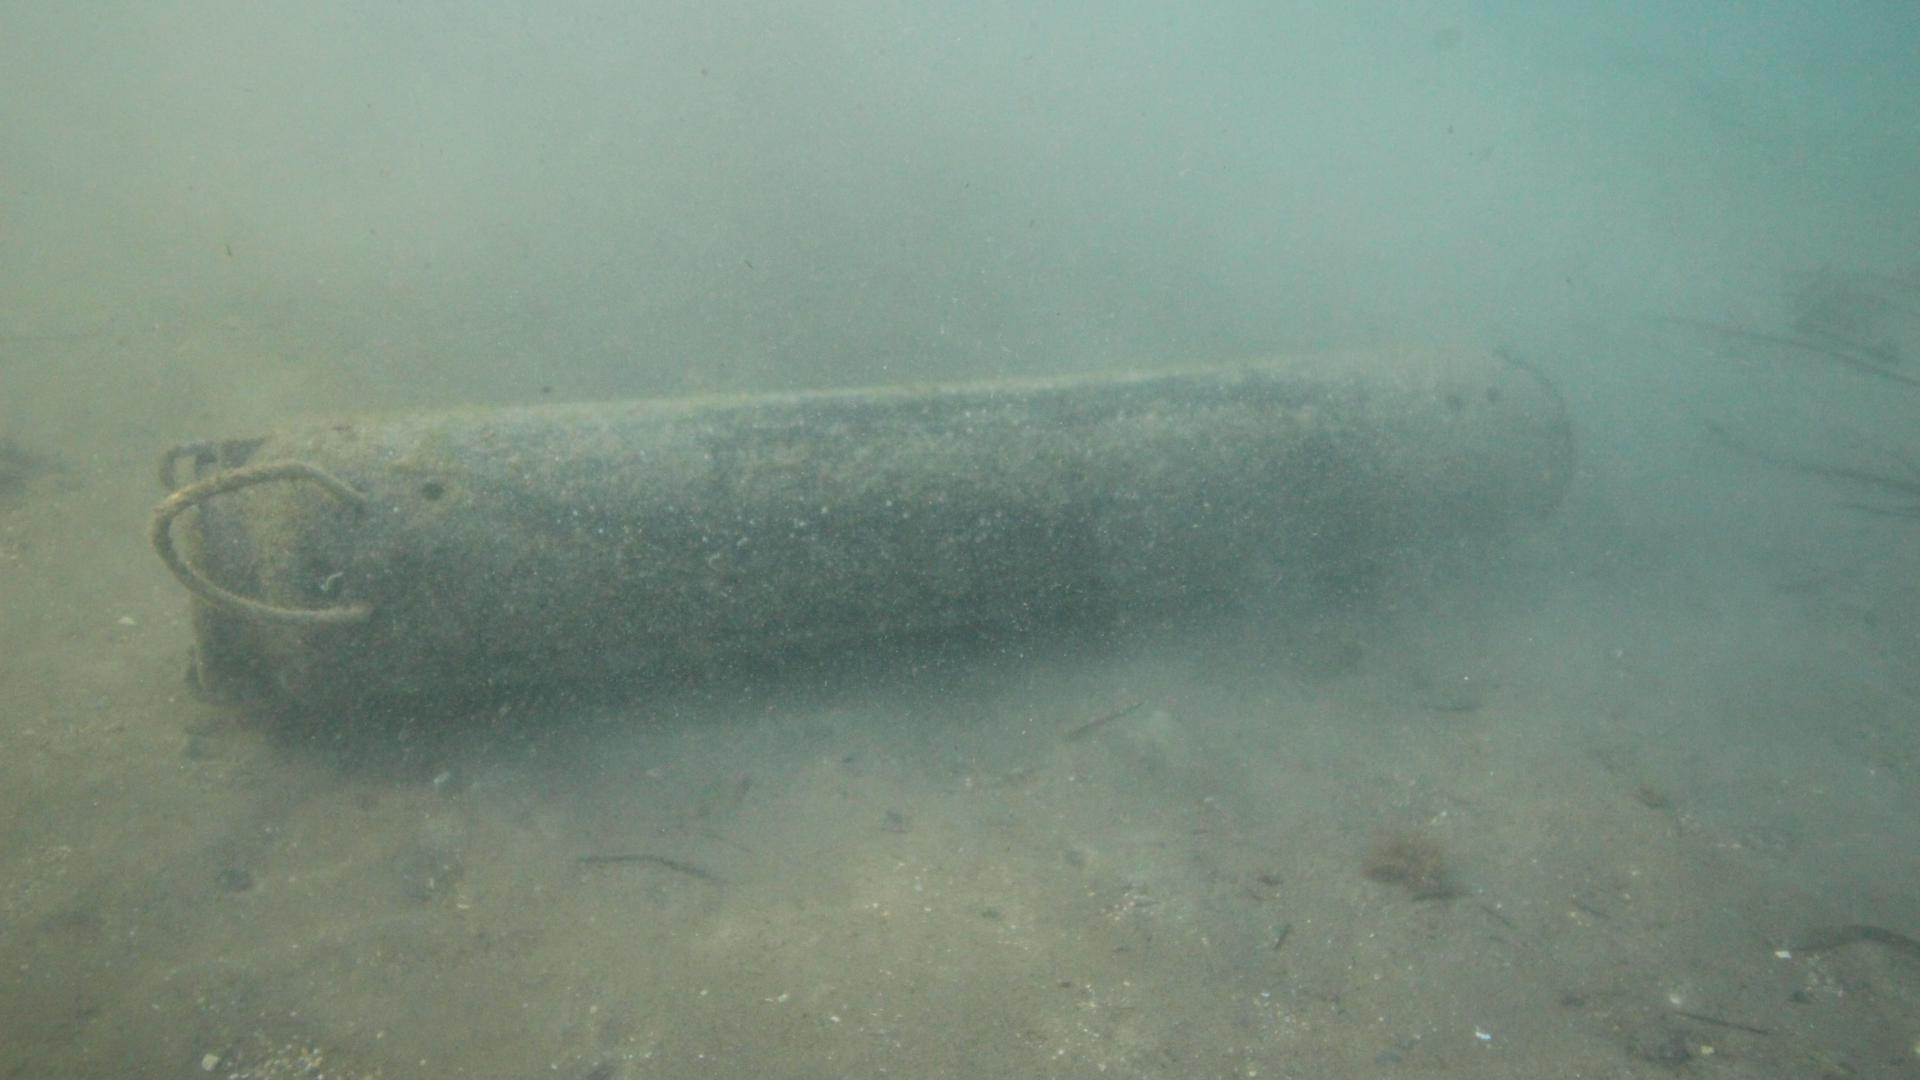eel fish trap: (183, 349, 1582, 715)
rope: (146, 456, 371, 622)
